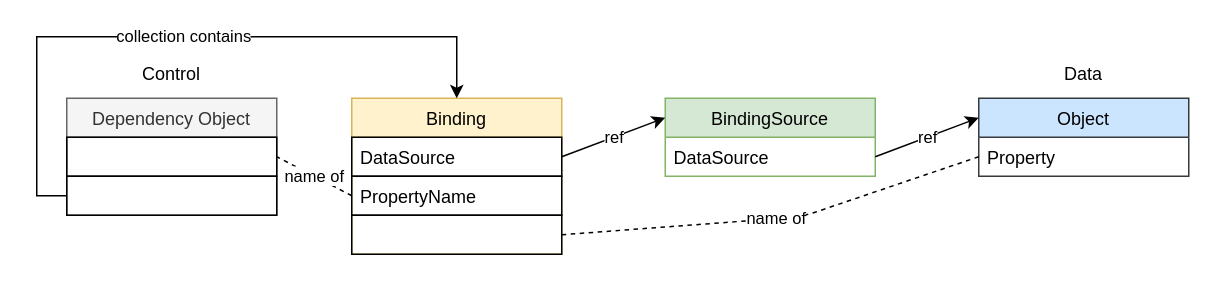
This 1215x285 diagram has some shape labels left out. The centre of each missing label's shape, as x and y in pixels:
"BindingMemberInfo" goes at point 456,234.
"DataBindings" goes at point 171,195.
"Dependency Property" goes at point 171,156.
